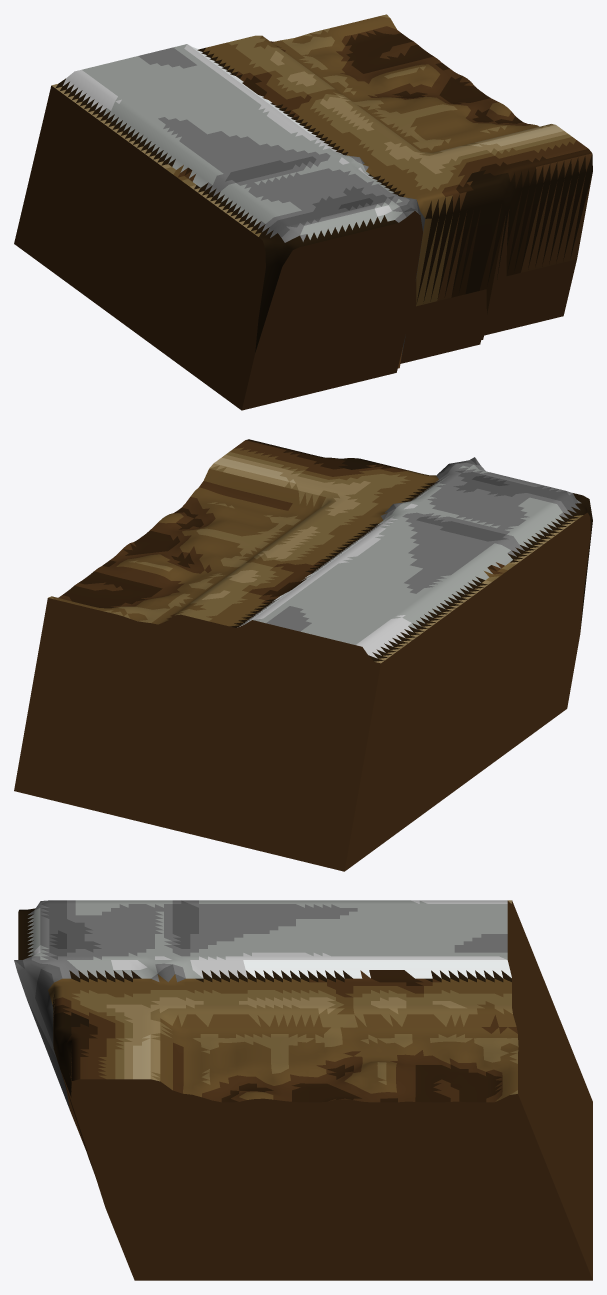
Rendered from skull_chest_b2.glb.
3 renders of one model, top to bottom at view 1: azimuth 30°, elevation 25°; view 2: azimuth 150°, elevation 25°; view 3: azimuth 270°, elevation 25°, orthographic. The views are drawn at different scales.
Parts seen in each view (by area): view 1: skull_chest_b2; view 2: skull_chest_b2; view 3: skull_chest_b2.
Part boxes in pixels (x1,y1,x2,y2): skull_chest_b2: [14, 14, 592, 410]; skull_chest_b2: [14, 439, 592, 871]; skull_chest_b2: [14, 900, 592, 1280].
Size of the model in its own units: 24 by 13.3 by 32.84.
